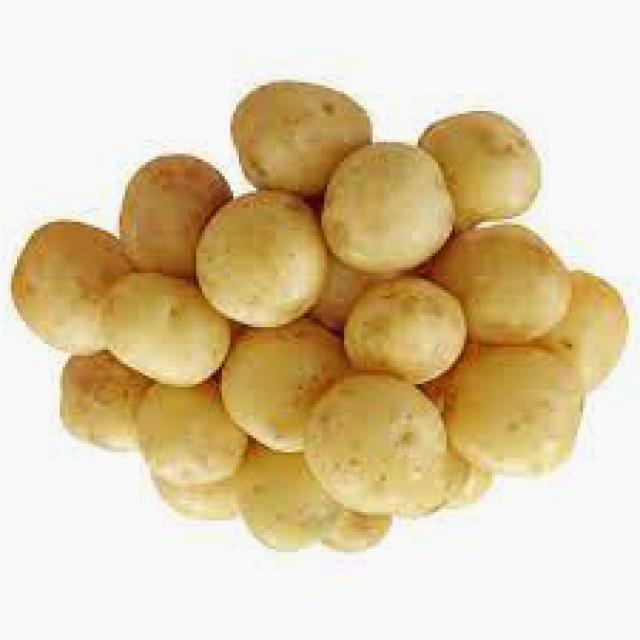potato: (448, 338, 582, 477), (322, 145, 453, 276), (10, 222, 133, 361), (311, 378, 440, 507), (192, 195, 322, 323), (225, 322, 348, 451), (436, 229, 567, 347), (101, 274, 235, 388), (238, 85, 372, 195), (118, 158, 232, 276), (133, 381, 251, 491), (423, 111, 538, 222), (234, 433, 334, 556), (340, 286, 463, 377), (60, 354, 151, 461), (551, 274, 631, 394), (155, 463, 241, 527), (320, 507, 393, 560), (438, 460, 487, 513)
